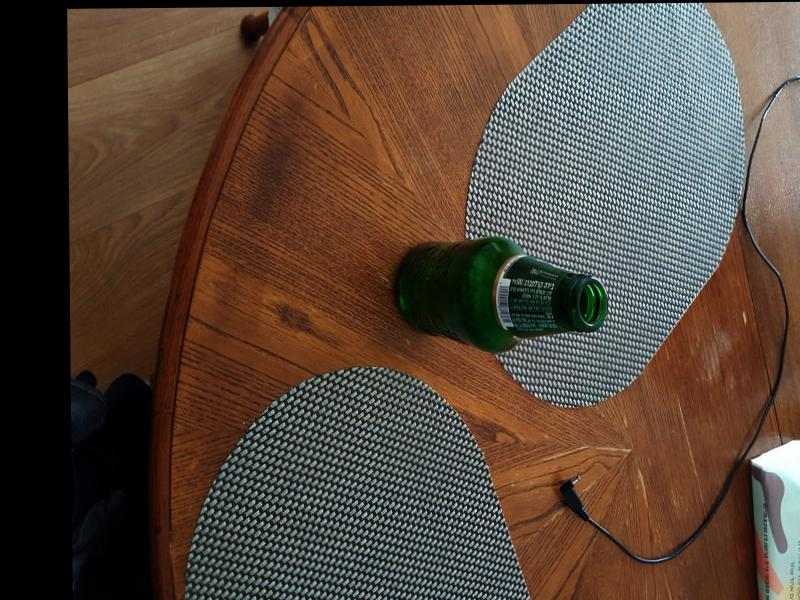Beer: (394, 236, 609, 349)
